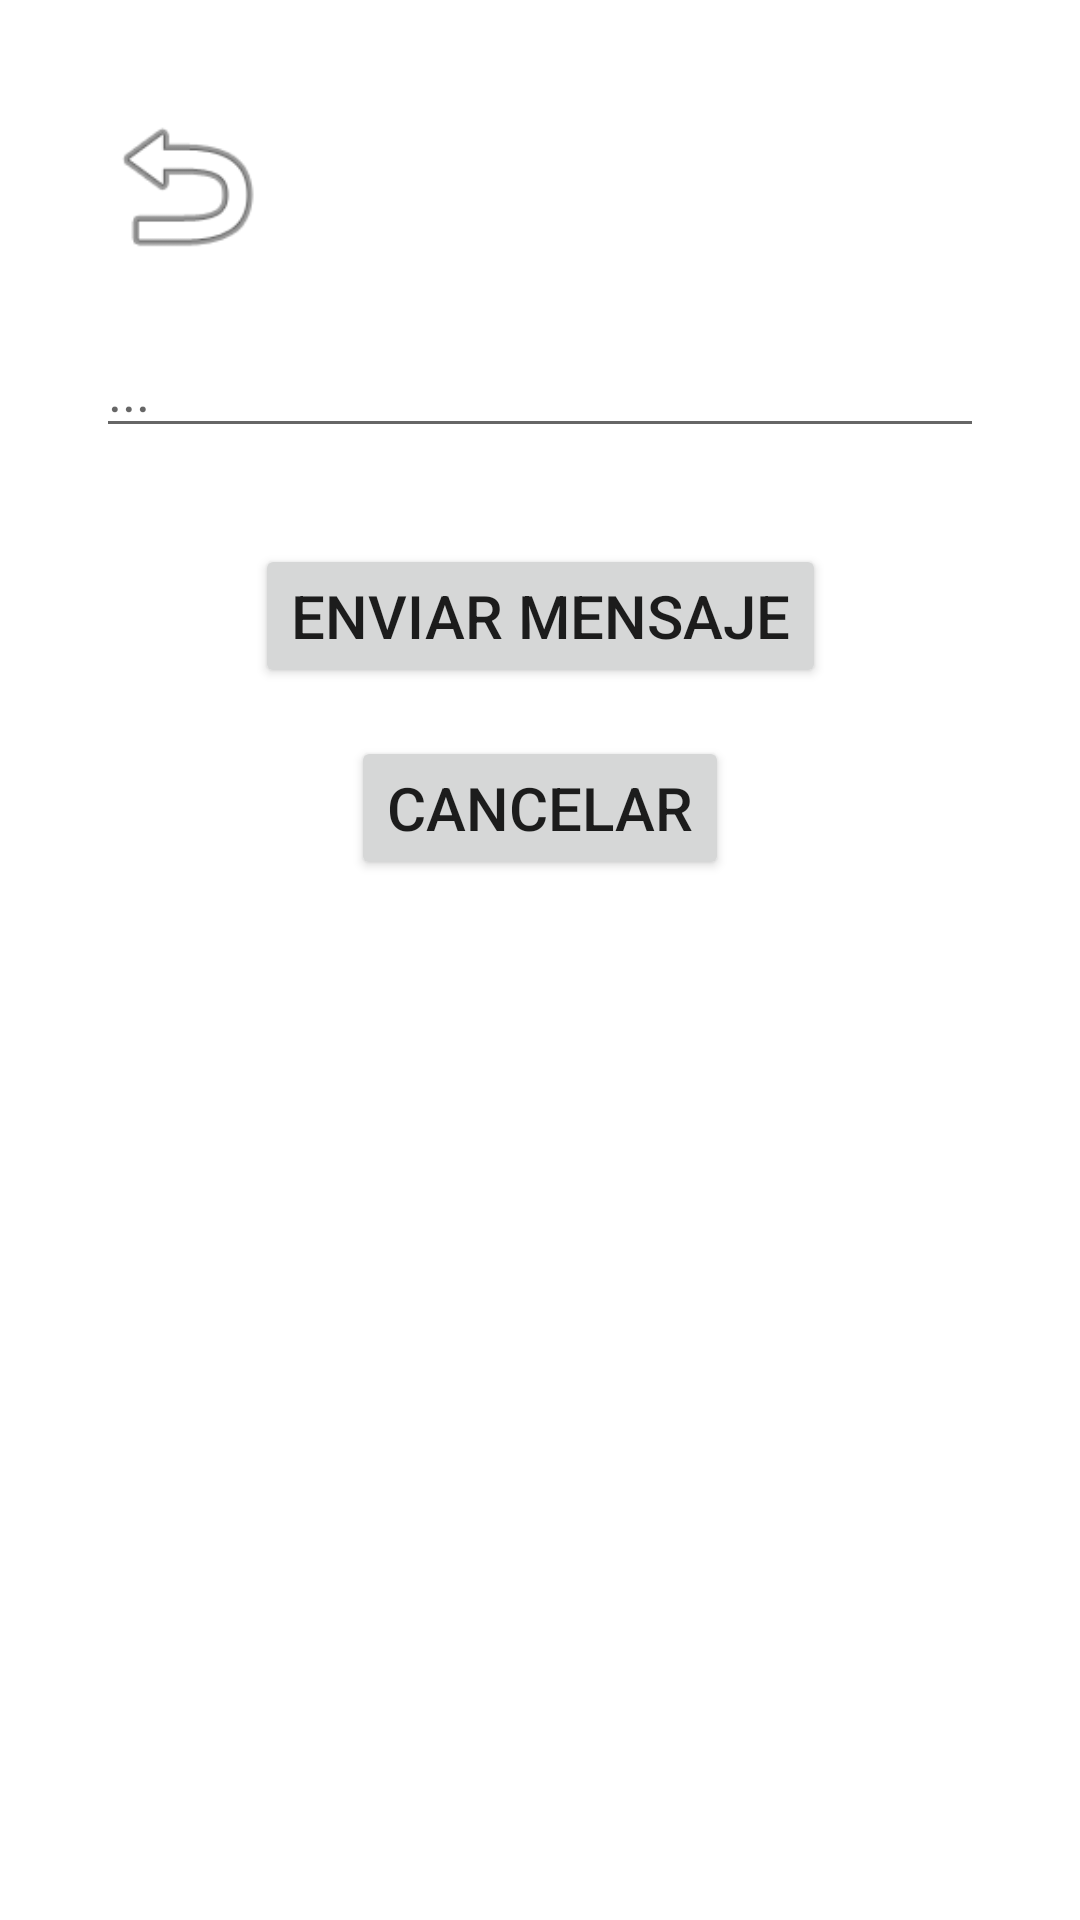

Locate icon controls on the screen. Image size 1080 x 1920, boxes as [x1=x1, y1=y1, x2=x2, y2=y2].
revert: [x1=123, y1=128, x2=254, y2=246]
